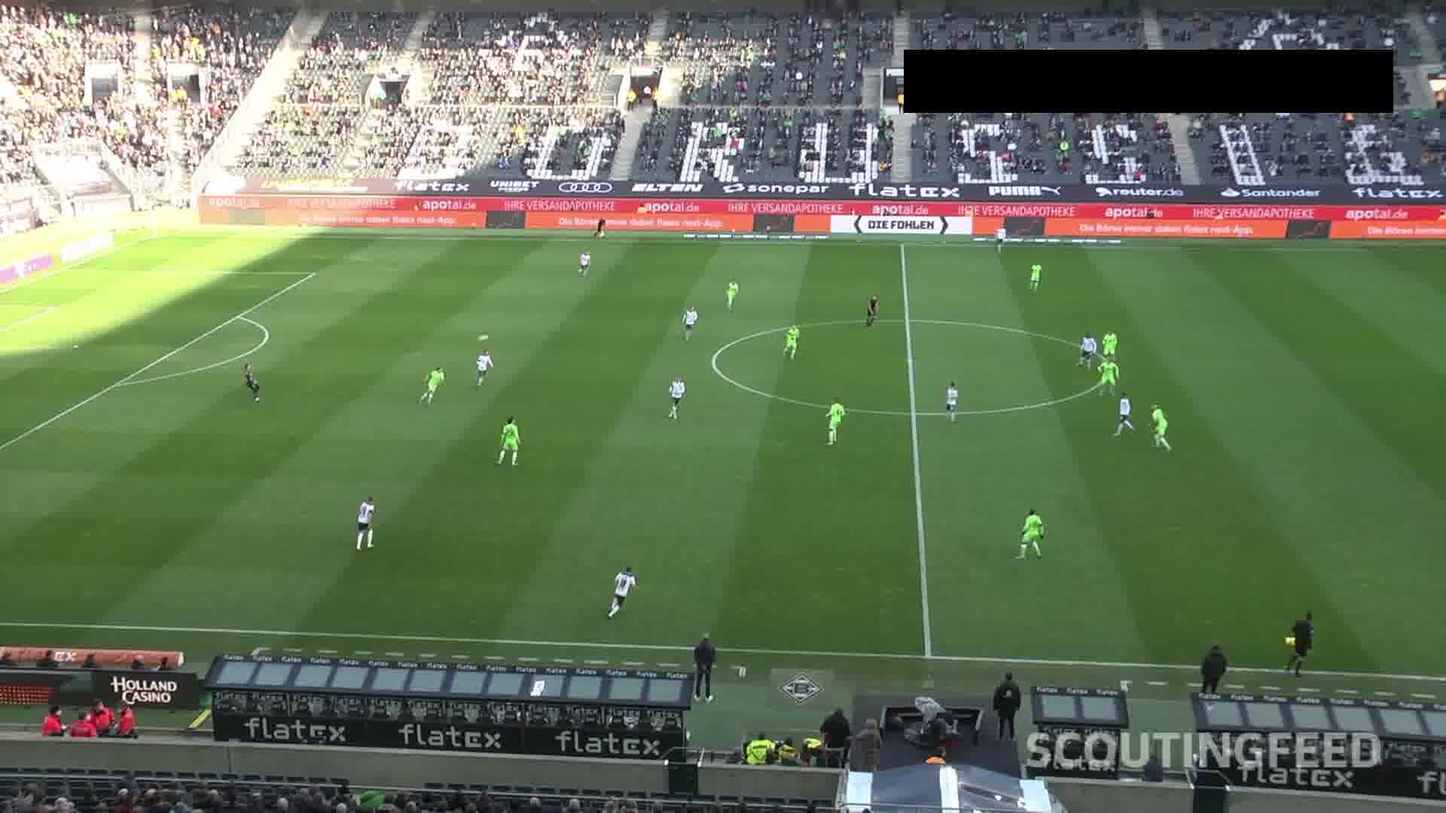ball: (477, 329, 491, 345)
coach_staff: (1169, 632, 1234, 700), (679, 627, 726, 708), (992, 671, 1024, 739)
goalkeeper: (232, 361, 267, 406)
player: (344, 484, 382, 557), (601, 565, 638, 622), (491, 413, 523, 472), (665, 369, 694, 428), (930, 371, 964, 420), (1018, 502, 1044, 565), (1146, 396, 1171, 452), (823, 390, 845, 444), (1095, 356, 1126, 394), (779, 322, 807, 360), (420, 366, 448, 403), (1111, 391, 1133, 438), (1020, 260, 1046, 294), (1076, 329, 1097, 370), (722, 268, 742, 311), (1100, 327, 1123, 364), (473, 350, 493, 389), (682, 305, 702, 339), (574, 246, 595, 274), (990, 227, 1010, 248)
referee: (1284, 602, 1318, 671), (860, 289, 885, 336), (594, 216, 611, 238)
